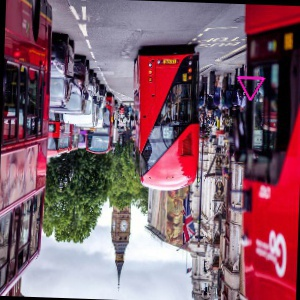triangle: (235, 71, 266, 101)
